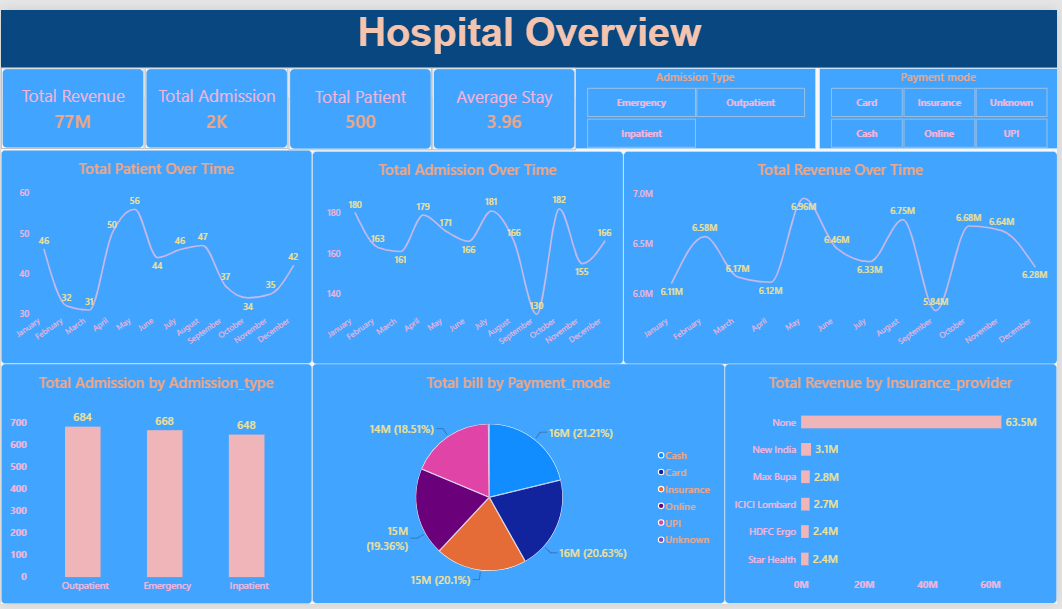

The dashboard page shown, as its layout file describes it:
{"tool":"powerbi","page":{"name":"Page 1","canvas":[1920,1080],"ordinal":0},"visuals":[{"type":"textbox","box":[0,0,1920.4,105],"z":0},{"type":"cardVisual","fields":{"Data":["Sum(billing.total_bill)"]},"box":[0,105,261.4,148.2],"z":1000},{"type":"cardVisual","fields":{"Data":["Count(admissions.admission_id)"]},"box":[261.7,104.4,261.1,148.9],"z":2000},{"type":"cardVisual","fields":{"Data":["CountNonNull(patients.patient_id)"]},"box":[522.9,104.3,261,150],"z":3000},{"type":"cardVisual","fields":{"Data":["admissions.Average Stay (Days)"]},"box":[783.8,104.6,261,150],"z":4000},{"type":"lineChart","title":"Total Patient Over Time","fields":{"Category":["patients.registration_date.Variation.Date Hierarchy.Month"],"Y":["CountNonNull(patients.patient_id)"]},"box":[0,254.5,565.5,389.1],"z":5000},{"type":"lineChart","title":"Total Admission Over Time","fields":{"Category":["admissions.admission_date.Variation.Date Hierarchy.Month"],"Y":["Count(admissions.admission_id)"]},"box":[565.5,256.4,565.5,387.3],"z":6000},{"type":"lineChart","title":"Total Revenue Over Time","fields":{"Category":["billing.bill_date.Variation.Date Hierarchy.Month"],"Y":["Sum(billing.total_bill)"]},"box":[1130.9,256.4,789.1,387.3],"z":7000},{"type":"clusteredColumnChart","title":"Total Admission by Admission_type","fields":{"Category":["admissions.admission_type"],"Y":["Count(admissions.admission_id)"]},"box":[0,643.3,565.6,436.7],"z":8000},{"type":"pieChart","title":"Total bill by Payment_mode","fields":{"Category":["billing.new_payment_mode"],"Y":["Sum(billing.total_bill)"]},"box":[566,644,750,436],"z":9000},{"type":"clusteredBarChart","title":"Total Revenue by Insurance_provider","fields":{"Category":["billing.insurance_provider"],"Y":["Sum(billing.total_bill)"]},"box":[1316,644,604,436],"z":10000},{"type":"slicer","title":"Admission Type","fields":{"Values":["admissions.admission_type"]},"box":[1045,106.7,341.7,71.7],"z":11000},{"type":"slicer","title":"Payment mode","fields":{"Values":["billing.new_payment_mode"]},"box":[1045,180,341.7,71.7],"z":12000}]}

Visuals, with their boxes in screenshot pixels (x1, y1, x2, y2), scaled from the page's 1920x1080 canvas onto the 1062x609 screenshot:
textbox: x1=0 y1=0 x2=1061 y2=59
cardVisual - Sum(billing.total_bill): x1=0 y1=59 x2=145 y2=143
cardVisual - Count(admissions.admission_id): x1=145 y1=59 x2=289 y2=143
cardVisual - CountNonNull(patients.patient_id): x1=289 y1=59 x2=434 y2=143
cardVisual - admissions.Average Stay (Days): x1=434 y1=59 x2=578 y2=144
"Total Patient Over Time" lineChart: x1=0 y1=144 x2=313 y2=363
"Total Admission Over Time" lineChart: x1=313 y1=145 x2=626 y2=363
"Total Revenue Over Time" lineChart: x1=626 y1=145 x2=1061 y2=363
"Total Admission by Admission_type" clusteredColumnChart: x1=0 y1=363 x2=313 y2=608
"Total bill by Payment_mode" pieChart: x1=313 y1=363 x2=728 y2=608
"Total Revenue by Insurance_provider" clusteredBarChart: x1=728 y1=363 x2=1061 y2=608
"Admission Type" slicer: x1=578 y1=60 x2=767 y2=101
"Payment mode" slicer: x1=578 y1=102 x2=767 y2=142
